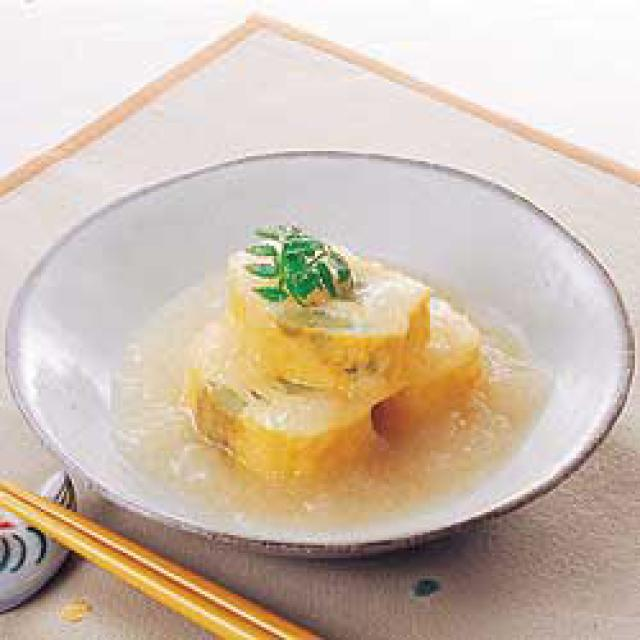鸡蛋料理: (154, 210, 512, 491)
